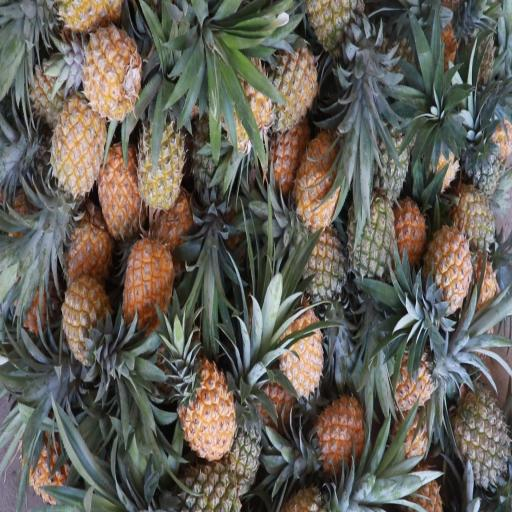------------------------------: (292, 206, 349, 312), (134, 107, 184, 222)
Pineapple - v8 v1: (175, 344, 239, 466), (76, 11, 139, 123), (266, 276, 325, 394), (45, 100, 106, 212), (293, 120, 351, 237), (306, 384, 372, 478), (123, 238, 180, 346), (422, 211, 473, 326), (264, 38, 318, 136), (96, 146, 148, 246), (59, 271, 109, 369)
